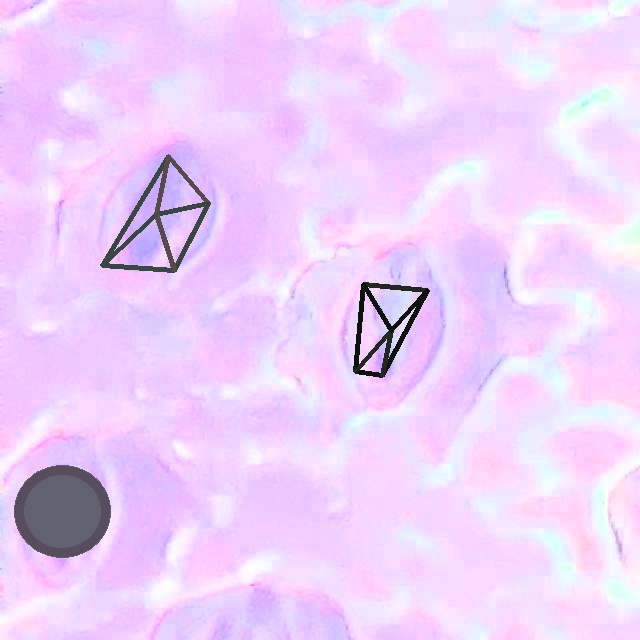open: (101, 155, 210, 272), (14, 465, 110, 557), (353, 282, 429, 377)
